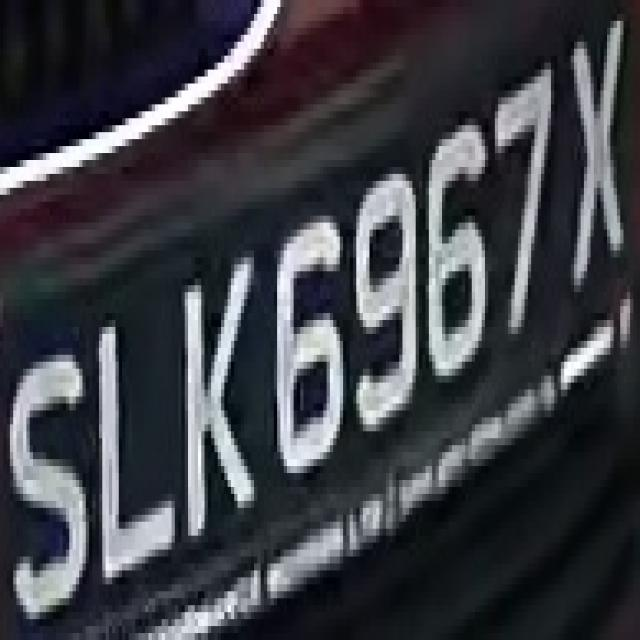6: (267, 209, 353, 480), (422, 125, 502, 397)
7: (491, 69, 561, 348)
9: (343, 153, 422, 459)
K: (172, 230, 267, 550)
L: (86, 285, 185, 598)
S: (13, 327, 92, 619)
X: (564, 7, 637, 320)
